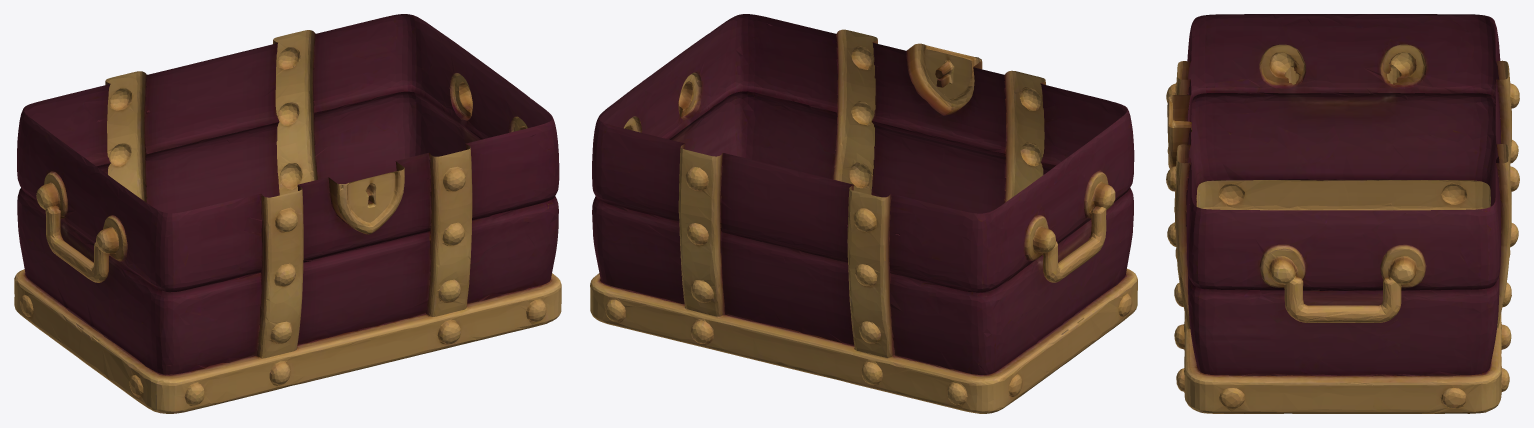
File: chest_base.glb
3 views of the same model, side by side, from view 1: azimuth 30°, elevation 25°; view 2: azimuth 150°, elevation 25°; view 3: azimuth 270°, elevation 25° (orthographic).
Parts seen in each view (by area): view 1: source_surface_0; view 2: source_surface_0; view 3: source_surface_0.
Part boxes in pixels (box(x1,y1,x2,y2)): source_surface_0: box(14, 14, 561, 413); source_surface_0: box(590, 14, 1137, 413); source_surface_0: box(1166, 14, 1519, 413).
Size of the model in its own units: 0.35 by 0.1527 by 0.2404.
1 material, 1 textured.
